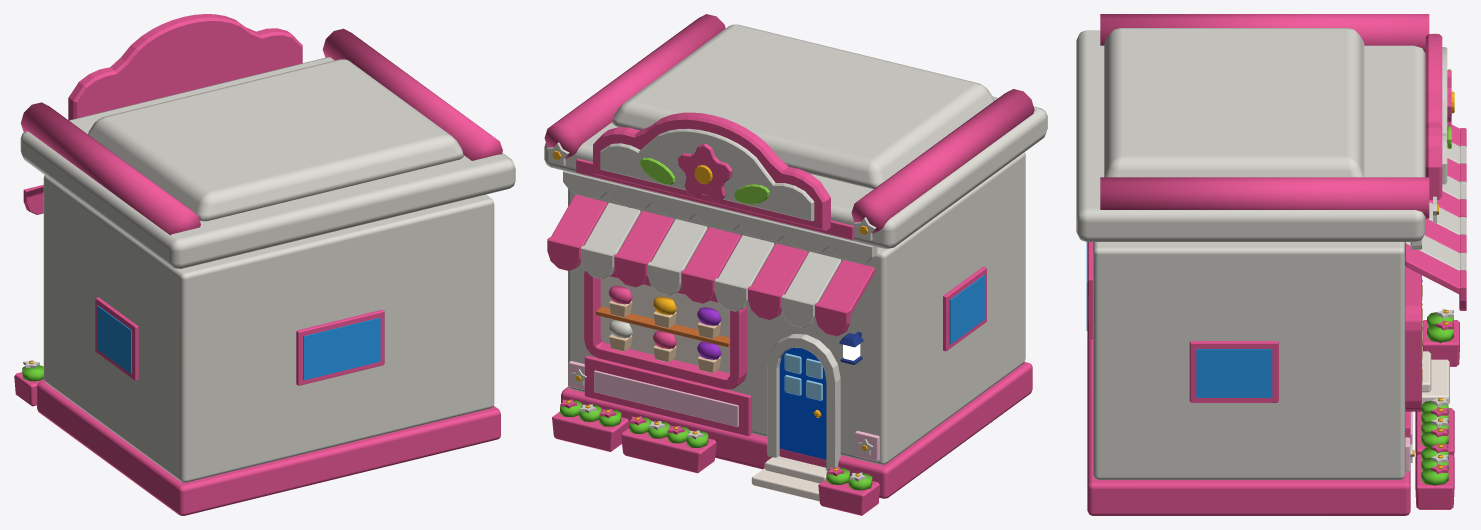
Rendered from FlowerShop.glb.
3 views of the same model, side by side, from view 1: azimuth 30°, elevation 25°; view 2: azimuth 150°, elevation 25°; view 3: azimuth 270°, elevation 25° (orthographic). The views are drawn at different scales.
Parts seen in each view (by area): view 1: M_FlowerShop_WallWhite, M_FlowerShop_FlowerPink, M_FlowerShop_TruckCab; view 2: M_FlowerShop_WallWhite, M_FlowerShop_FlowerPink, M_FlowerShop_HouseWall, M_FlowerShop_PinkLight, M_FlowerShop_ToyBlue, M_FlowerShop_Leaves, M_FlowerShop_HouseTrim, M_FlowerShop_TruckCab, M_FlowerShop_Glass, M_FlowerShop_TruckLime, M_FlowerShop_ToyLeg, M_FlowerShop_ToyYellow (+1 smaller); view 3: M_FlowerShop_WallWhite, M_FlowerShop_FlowerPink, M_FlowerShop_TruckCab, M_FlowerShop_Leaves, M_FlowerShop_HouseWall.
Boxes of the visible parts, x1=… form: M_FlowerShop_WallWhite: x1=20, y1=57, x2=515, y2=482; M_FlowerShop_FlowerPink: x1=14, y1=14, x2=502, y2=515; M_FlowerShop_TruckCab: x1=97, y1=305, x2=380, y2=380; M_FlowerShop_WallWhite: x1=544, y1=24, x2=1047, y2=481; M_FlowerShop_FlowerPink: x1=544, y1=14, x2=1034, y2=515; M_FlowerShop_HouseWall: x1=600, y1=276, x2=827, y2=501; M_FlowerShop_PinkLight: x1=568, y1=361, x2=879, y2=461; M_FlowerShop_ToyBlue: x1=779, y1=347, x2=826, y2=459; M_FlowerShop_Leaves: x1=560, y1=400, x2=872, y2=490; M_FlowerShop_HouseTrim: x1=609, y1=300, x2=720, y2=373; M_FlowerShop_TruckCab: x1=949, y1=274, x2=985, y2=344; M_FlowerShop_Glass: x1=784, y1=353, x2=822, y2=400; M_FlowerShop_TruckLime: x1=640, y1=157, x2=769, y2=204; M_FlowerShop_ToyLeg: x1=596, y1=306, x2=729, y2=347; M_FlowerShop_ToyYellow: x1=552, y1=151, x2=868, y2=476; M_FlowerShop_WallWhite: x1=1076, y1=28, x2=1466, y2=479; M_FlowerShop_FlowerPink: x1=1087, y1=14, x2=1466, y2=515; M_FlowerShop_TruckCab: x1=1086, y1=242, x2=1272, y2=397; M_FlowerShop_Leaves: x1=1421, y1=312, x2=1453, y2=485; M_FlowerShop_HouseWall: x1=1422, y1=351, x2=1449, y2=404.
Bounding box in the file's own units: 11.9 × 11.4 × 10.5.
